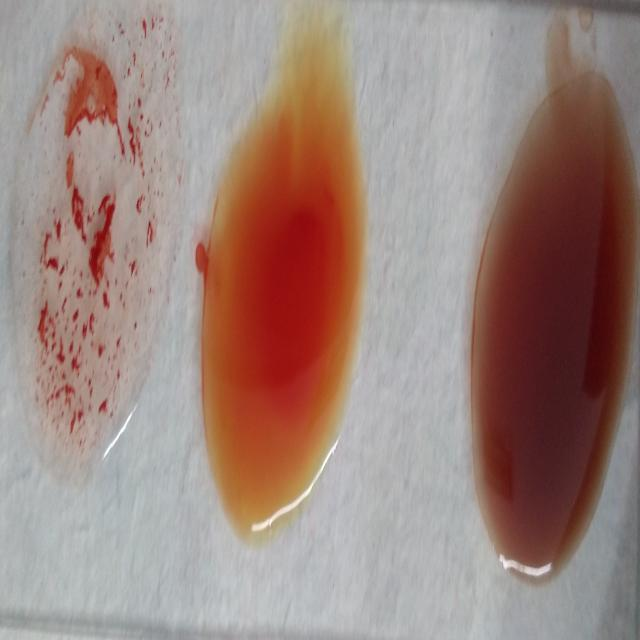D: (12, 19, 167, 463)
